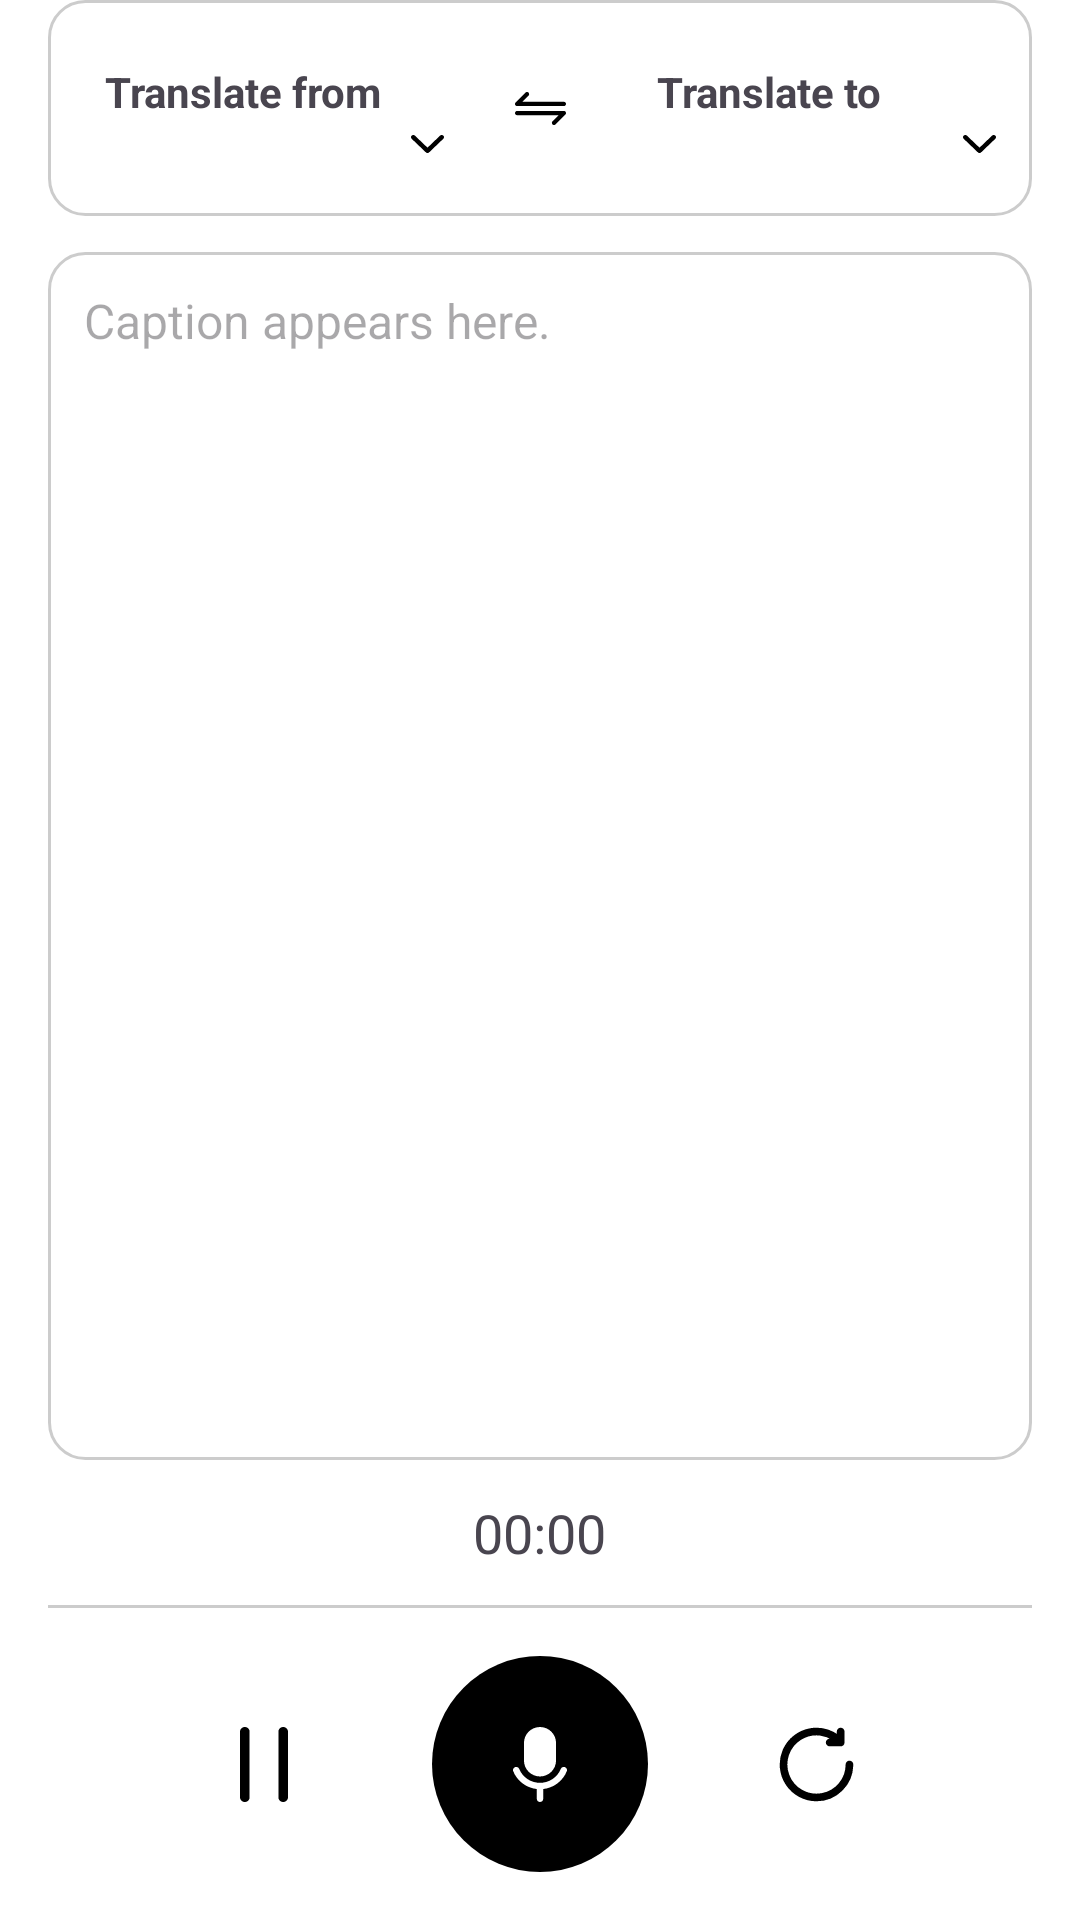

Named icons in this screenshot (1080px x 1920px) and their centers, point (x, y):
Exchange: point (540, 108)
Listen: point (540, 1764)
Pause: point (264, 1764)
Refresh: point (816, 1764)
